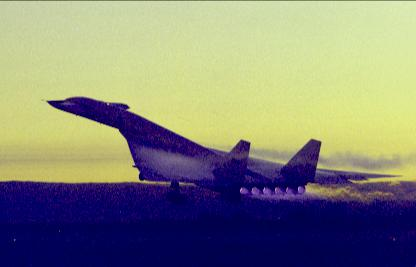U2: (39, 95, 403, 204)
